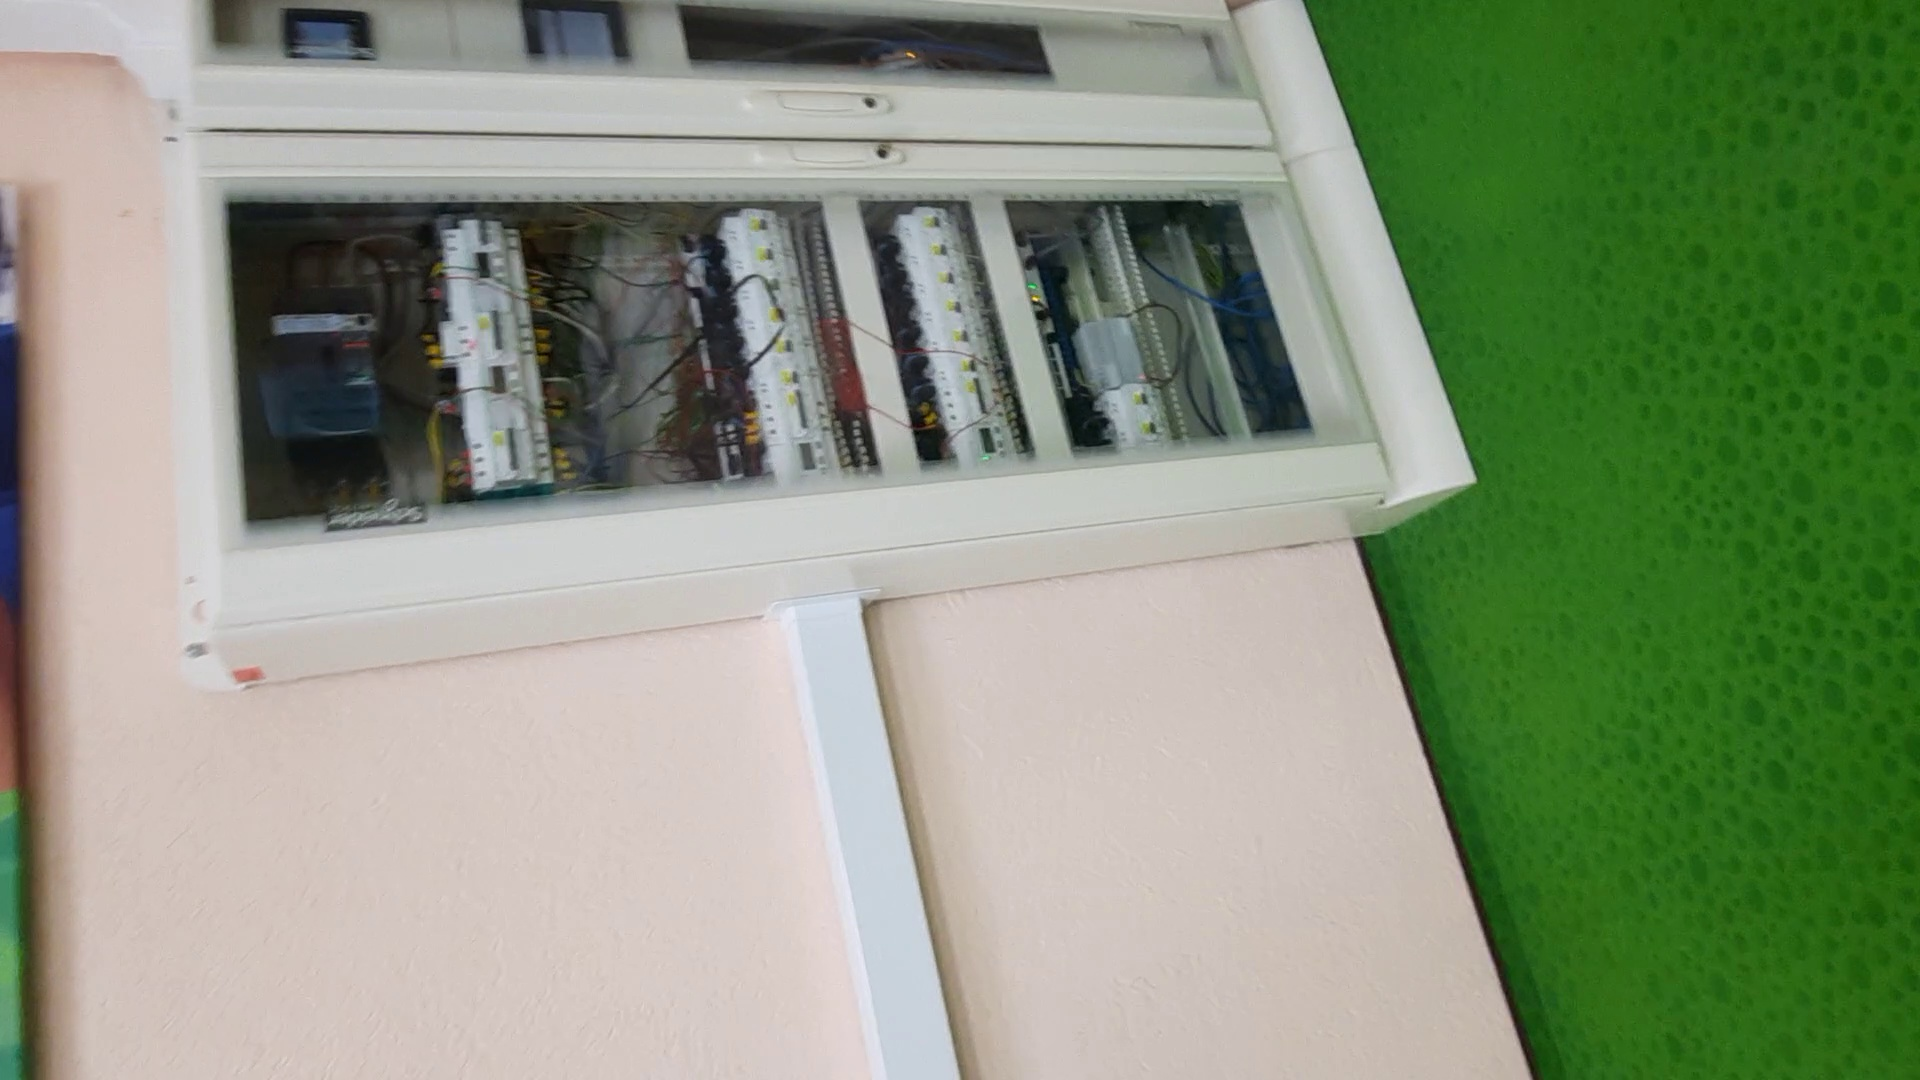stand1: (179, 3, 1491, 621)
